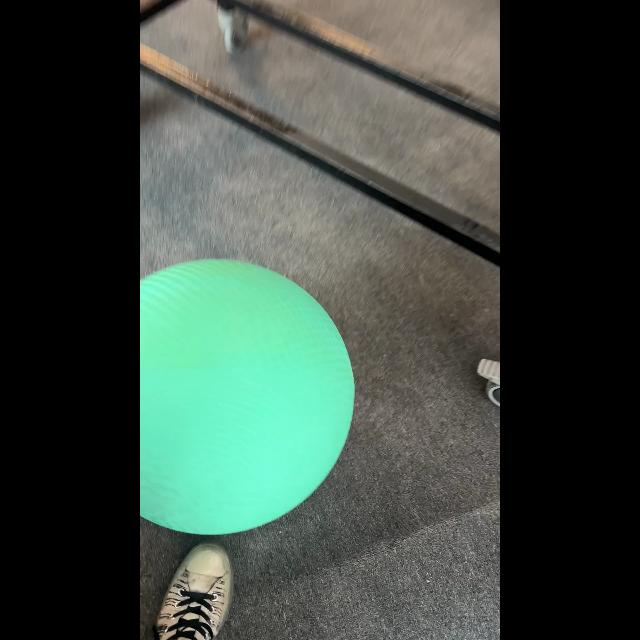ALGAE: (140, 257, 356, 535)
